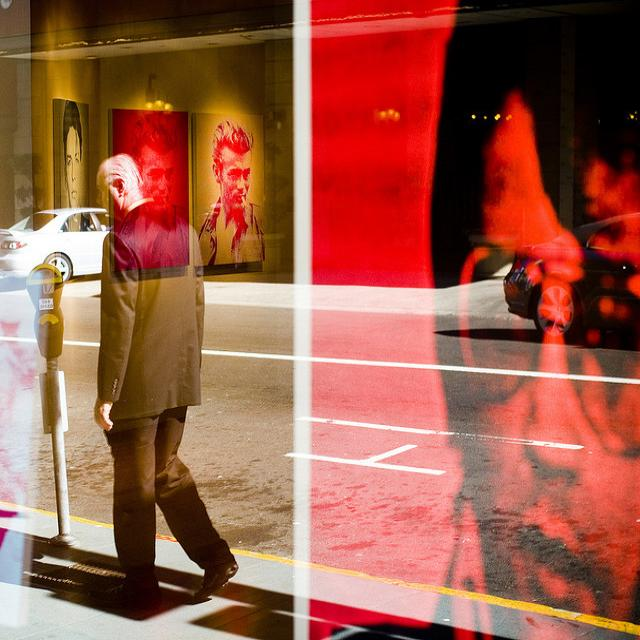Vehicle: (0, 208, 117, 281)
